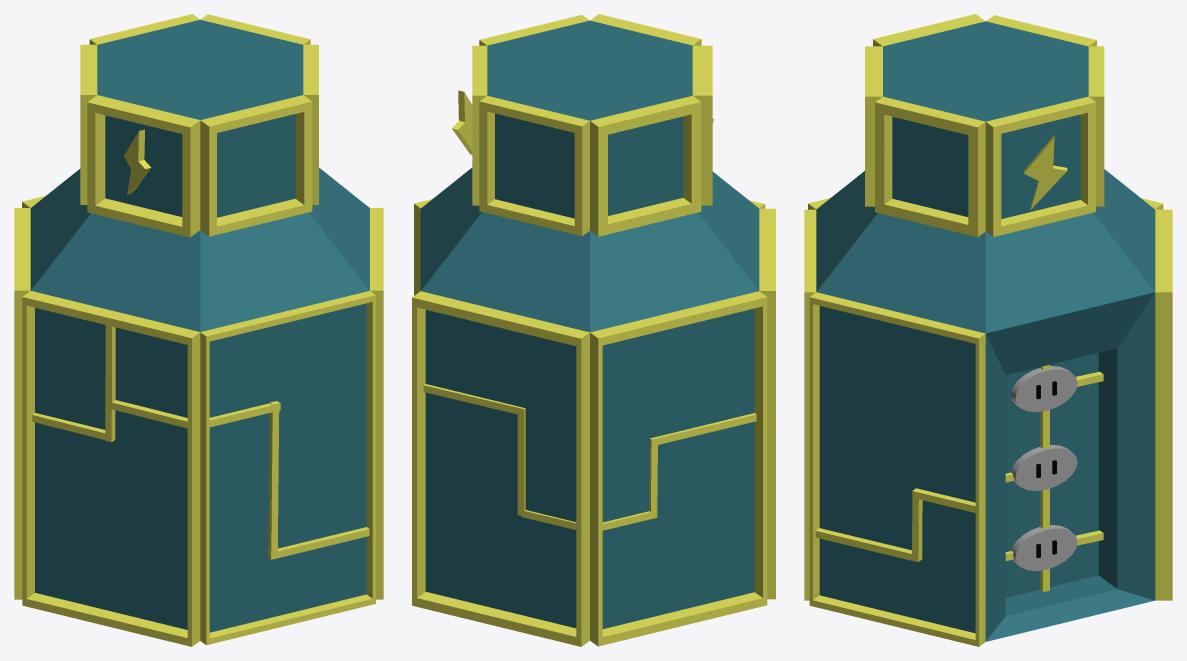
File: Housev4.fbx
The picture shows the model from 3 angles, left to right: view 1: azimuth 30°, elevation 25°; view 2: azimuth 150°, elevation 25°; view 3: azimuth 270°, elevation 25°; orthographic projection.
Visible parts, largest first — view 1: CharlesHoouse, pCube14, pCube20, pCube12, pCylinder3, pCube19, pCube18, pCube13; view 2: CharlesHoouse, pCube16, pCube8, pCube6, pCylinder2, pCube17; view 3: CharlesHoouse, plugbase3, plugbase1, plugbase2, pCylinder2, pCube11, pCube1, pCube10, pCube9.
Part boxes in pixels (box(x1,y1,x2,y2)): CharlesHoouse: box(14, 14, 383, 646); pCube14: box(268, 401, 279, 552); pCube20: box(105, 325, 115, 442); pCube12: box(268, 527, 369, 559); pCylinder3: box(124, 129, 151, 194); pCube19: box(106, 400, 187, 428); pCube18: box(32, 413, 108, 440); pCube13: box(209, 401, 280, 427); CharlesHoouse: box(412, 14, 775, 646); pCube16: box(650, 413, 756, 445); pCube8: box(517, 408, 525, 516); pCube6: box(423, 384, 525, 415); pCylinder2: box(452, 90, 472, 154); pCube17: box(649, 439, 657, 518); CharlesHoouse: box(804, 14, 1172, 646); plugbase3: box(1011, 366, 1077, 412); plugbase1: box(1011, 525, 1077, 571); plugbase2: box(1011, 445, 1077, 490); pCylinder2: box(1024, 135, 1067, 209); pCube11: box(815, 528, 913, 561); pCube1: box(1040, 364, 1049, 591); pCube10: box(912, 488, 922, 561); pCube9: box(912, 489, 975, 512).
Size of the model in its own units: 11.59 by 14.94 by 10.23.
